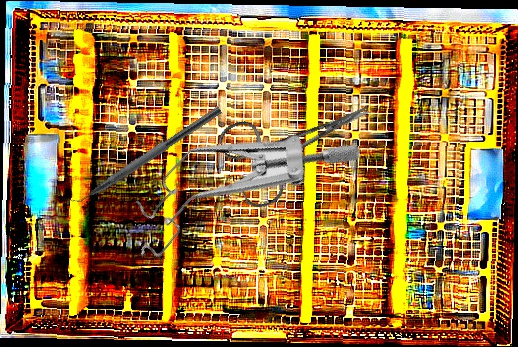Chopper: (60, 95, 223, 215)
Iris Scissors: (215, 71, 388, 214)
Speculum: (109, 60, 366, 320)
